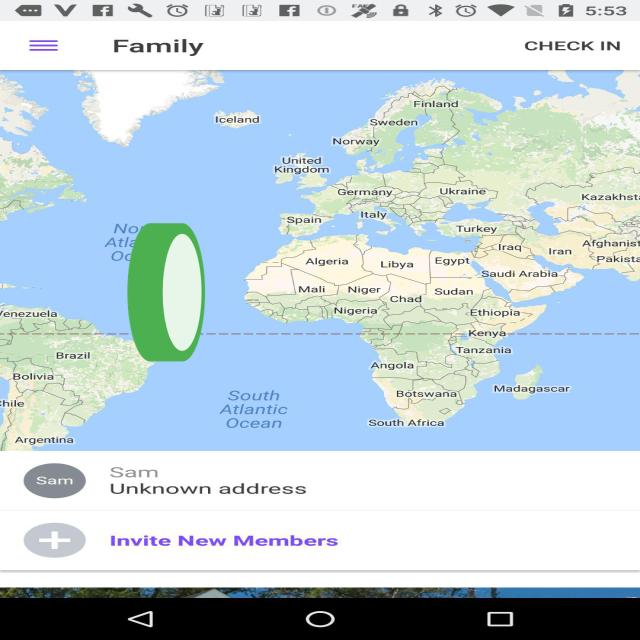social proof: (124, 170, 208, 425)
